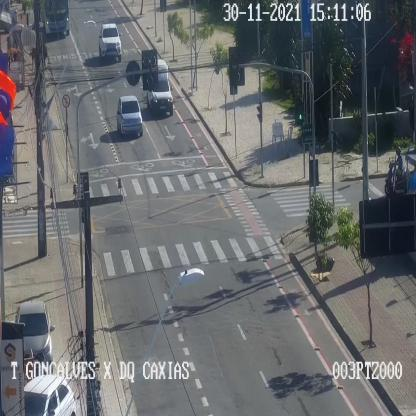bus: (40, 0, 72, 38)
car: (16, 301, 52, 372), (24, 374, 76, 416), (146, 60, 173, 115), (117, 95, 142, 136), (98, 24, 121, 61)
motorbike: (385, 146, 410, 195)
